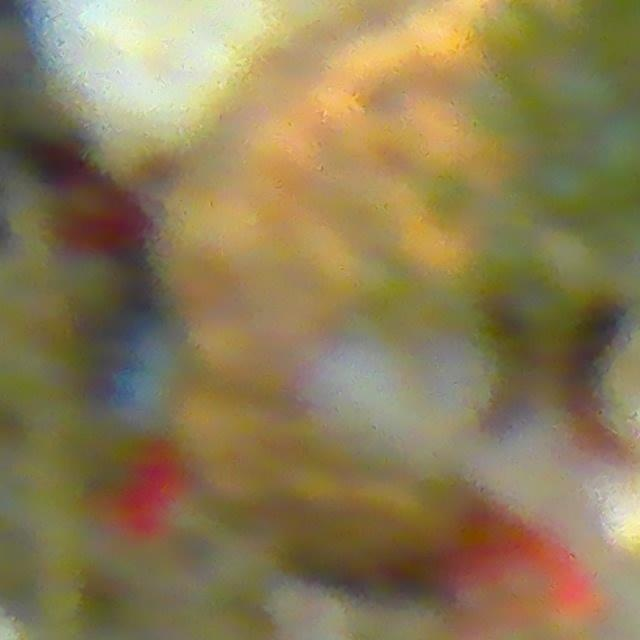SeaGrape: (533, 169, 604, 232), (529, 61, 604, 119), (595, 107, 640, 194)
